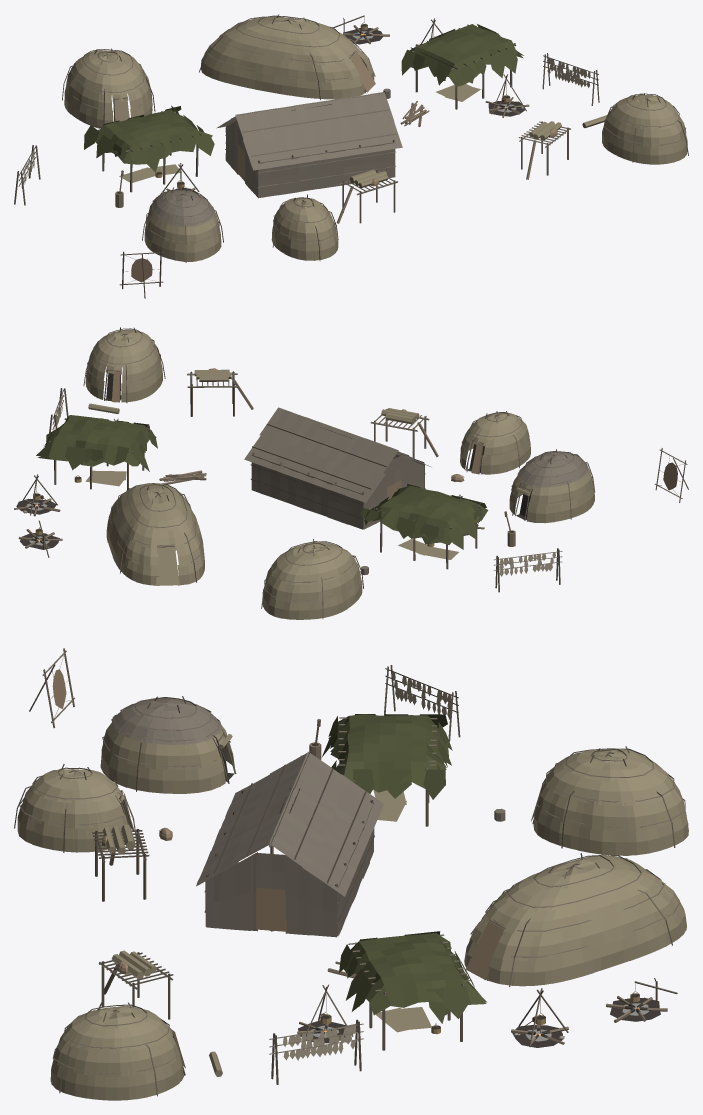
Rendered from potawatomi_camp_1812_middle__camp_1812.glb.
3 renders of one model, top to bottom at view 1: azimuth 30°, elevation 25°; view 2: azimuth 150°, elevation 25°; view 3: azimuth 270°, elevation 25°, orthographic. The views are drawn at different scales.
Parts seen in each view (by area): view 1: potawatomi_camp_1812_middle__camp_1812; view 2: potawatomi_camp_1812_middle__camp_1812; view 3: potawatomi_camp_1812_middle__camp_1812.
Part boxes in pixels (left/top/right/bottom): potawatomi_camp_1812_middle__camp_1812: left=14, top=14, right=688, bottom=298; potawatomi_camp_1812_middle__camp_1812: left=14, top=327, right=688, bottom=619; potawatomi_camp_1812_middle__camp_1812: left=14, top=648, right=688, bottom=1100.
Size of the model in its own units: 31.65 by 3.45 by 22.73.
